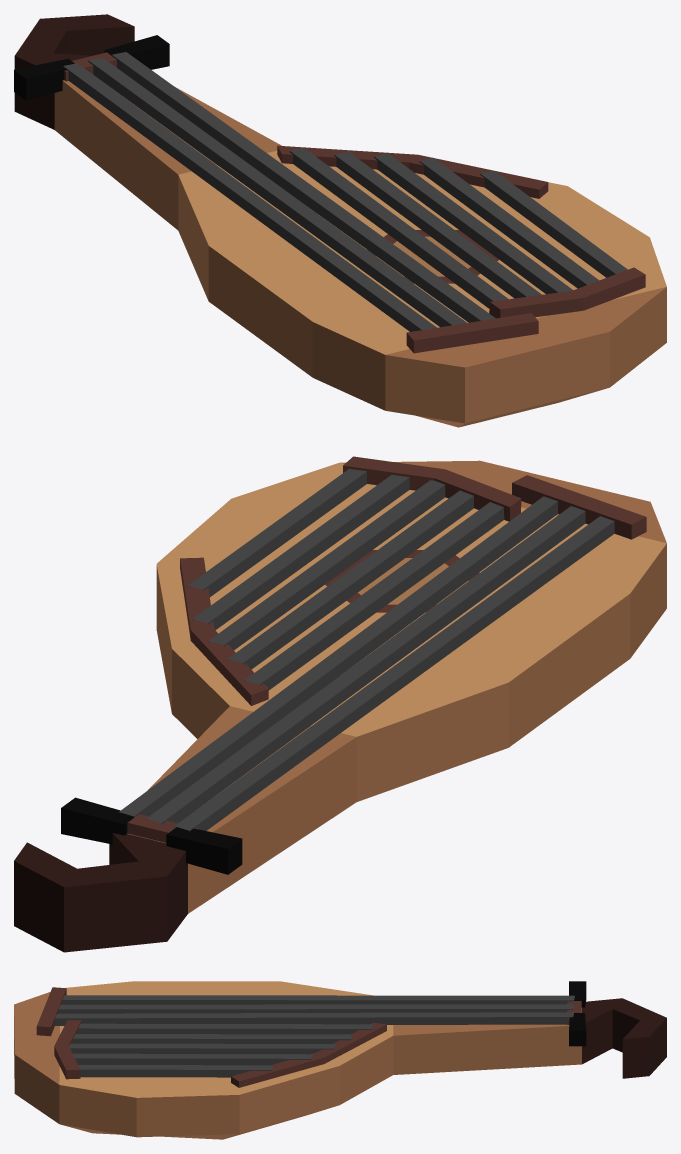
Rendered from bandura_LOW.fbx.
3 renders of one model, top to bottom at view 1: azimuth 30°, elevation 25°; view 2: azimuth 150°, elevation 25°; view 3: azimuth 270°, elevation 25°, orthographic. The views are drawn at different scales.
Visible parts, largest first — view 1: Bandura; view 2: Bandura; view 3: Bandura.
Boxes of the visible parts, x1=… form: Bandura: x1=14, y1=14, x2=666, y2=427; Bandura: x1=14, y1=456, x2=666, y2=952; Bandura: x1=14, y1=981, x2=666, y2=1139.
Size of the model in its own units: 42.28 by 12.52 by 100.
